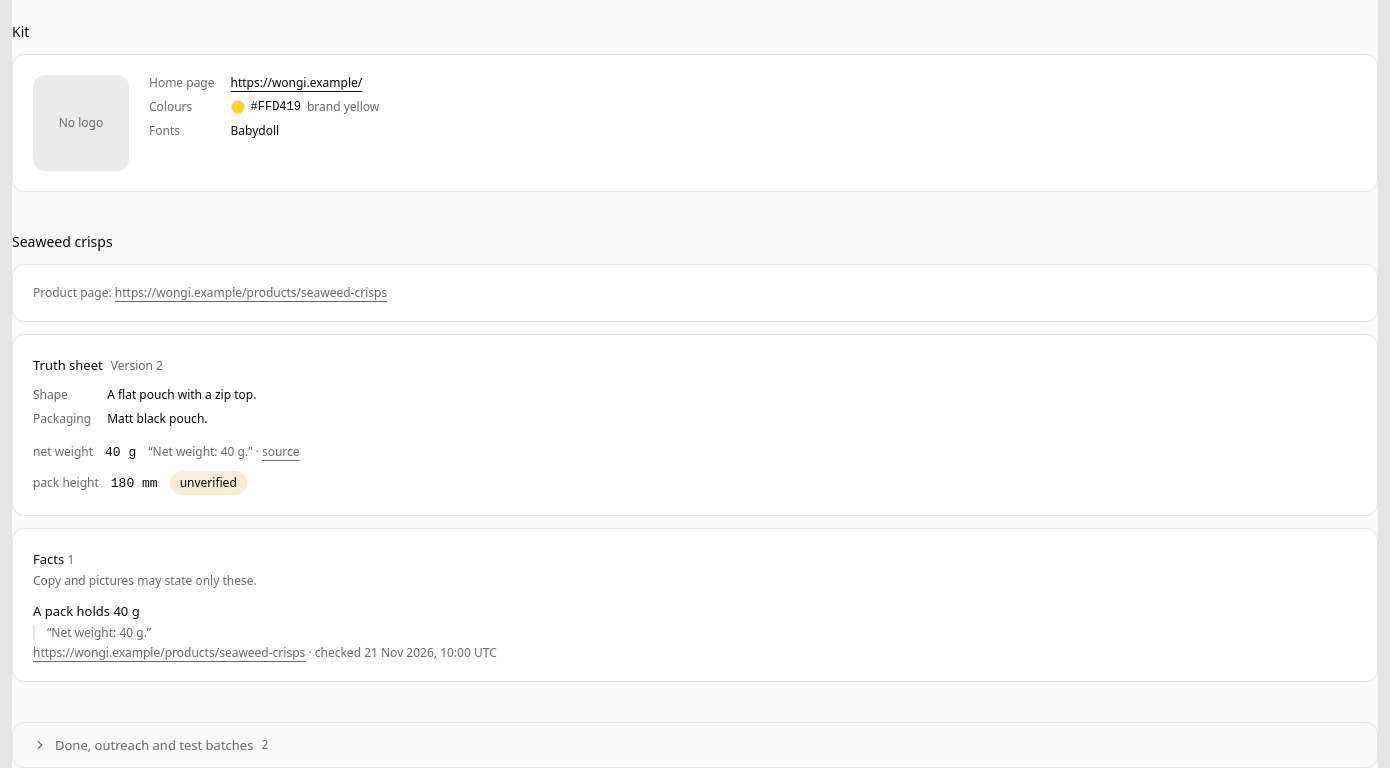
Scenario: Brand page › leads with the batch that waits for the owner, then what is in work, before the kit
(page scrolled)
Expected: the link "W47 x3" is not shown
Click the button "Done, outreach and test batches 2". click: (154, 745)
box: [13, 723, 1377, 767]
(page scrolled)
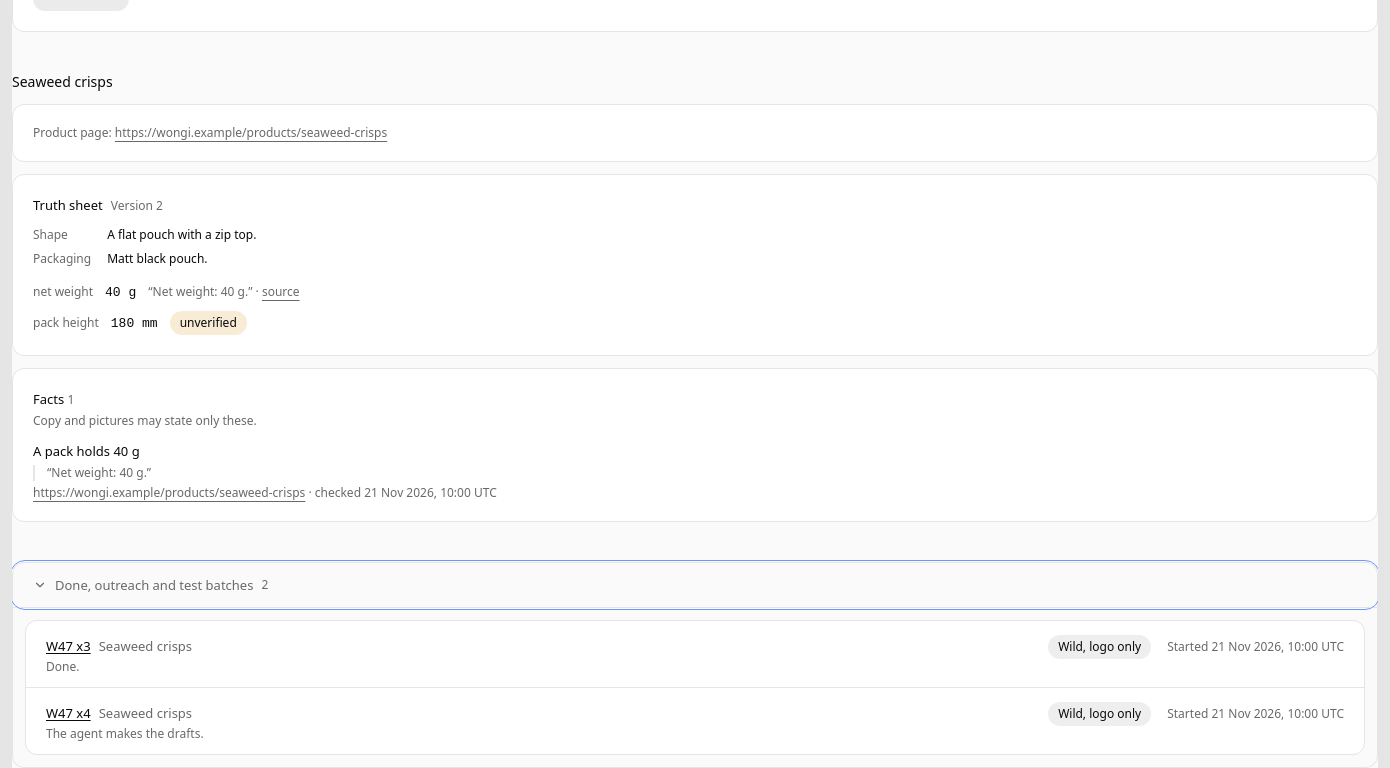
Result: the link "W47 x3" is shown at [46, 637, 91, 655]
Result: the link "W47 x4" is shown at [46, 704, 91, 722]
